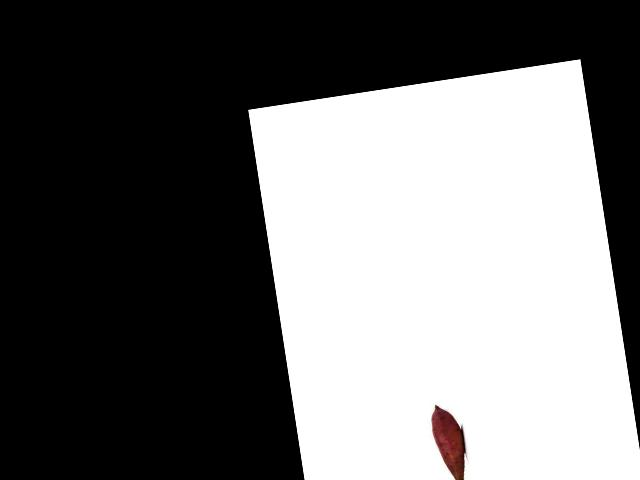sweet_potato: (428, 401, 468, 480)
